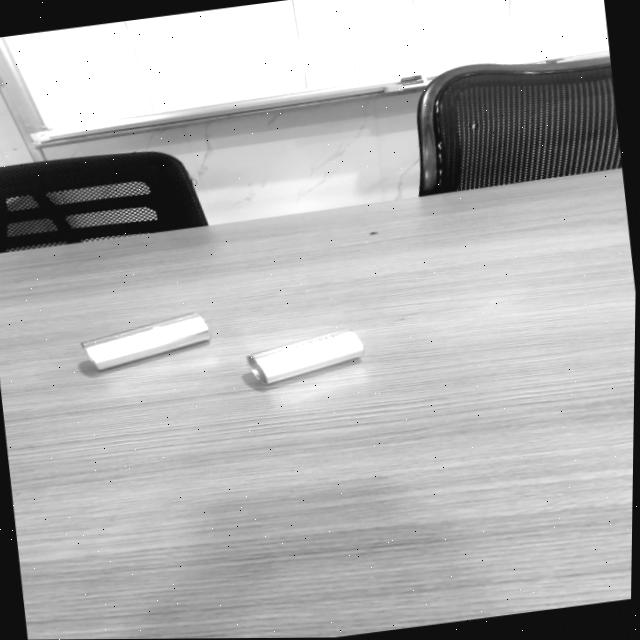Co_Lon: (82, 308, 211, 374)
Co_Nho: (246, 323, 366, 389)
